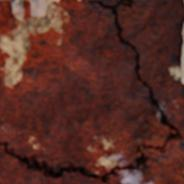brick: (0, 0, 176, 175), (116, 0, 183, 136), (0, 137, 183, 183)
crack: (0, 0, 183, 182), (89, 0, 97, 4)
